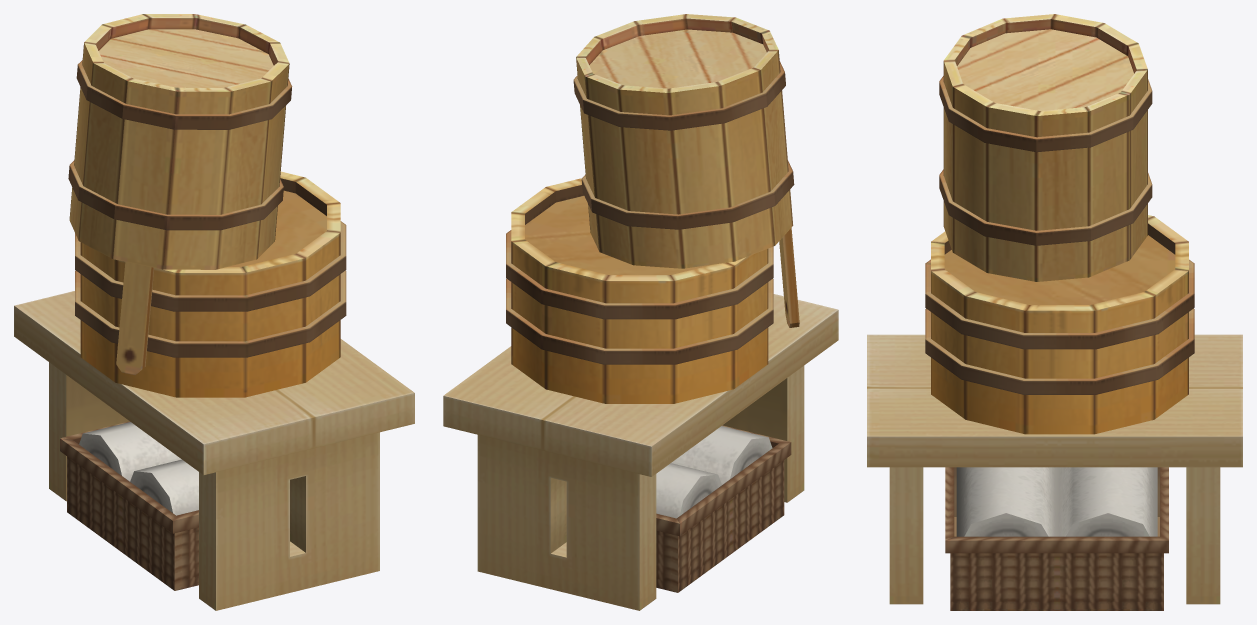
File: my_hotsprings_01_table_02.glb
3 renders of one model, left to right at view 1: azimuth 30°, elevation 25°; view 2: azimuth 150°, elevation 25°; view 3: azimuth 270°, elevation 25°, orthographic.
Parts seen in each view (by area): view 1: my_hotsprings_01_table_02; view 2: my_hotsprings_01_table_02; view 3: my_hotsprings_01_table_02.
Boxes of the visible parts, x1,y1,x2,y2 form: my_hotsprings_01_table_02: [14, 14, 414, 610]; my_hotsprings_01_table_02: [443, 14, 838, 610]; my_hotsprings_01_table_02: [867, 14, 1242, 610].
Size of the model in its own units: 0.00316 by 0.00594 by 0.00411.
Materials: 1 (1 with a texture image).
